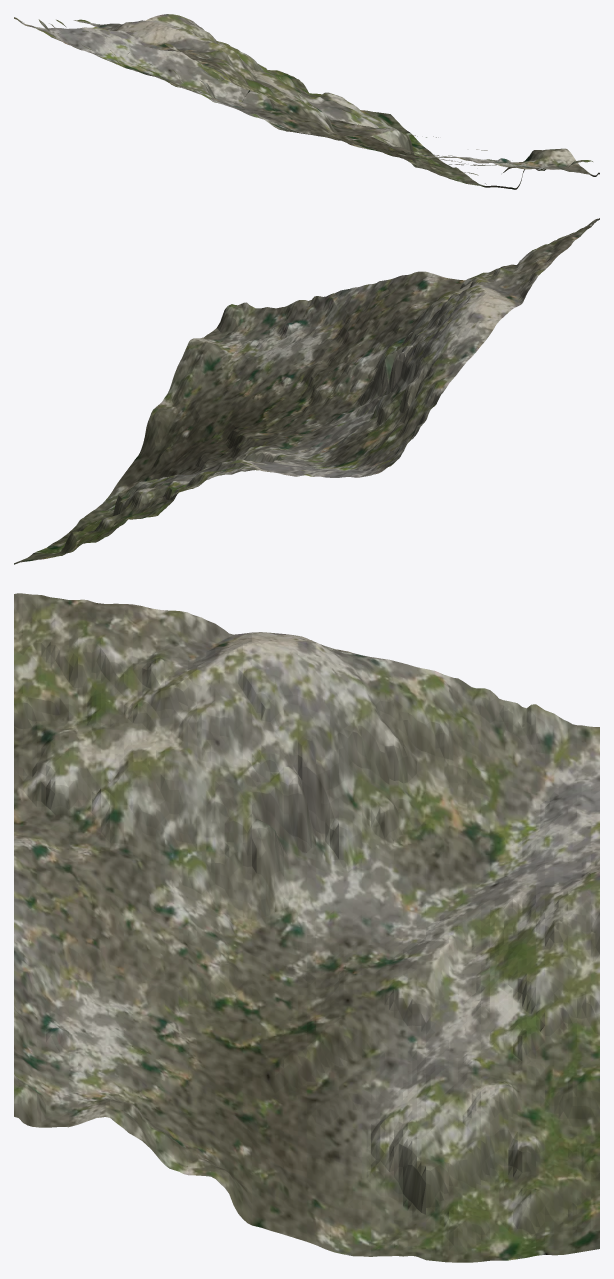
The picture shows the model from 3 angles, top to bottom: view 1: azimuth 30°, elevation 25°; view 2: azimuth 150°, elevation 25°; view 3: azimuth 270°, elevation 25°; orthographic projection. The views are drawn at different scales.
Size of the model in its own units: 250 by 188 by 241.
Materials: 1 (1 with a texture image).
